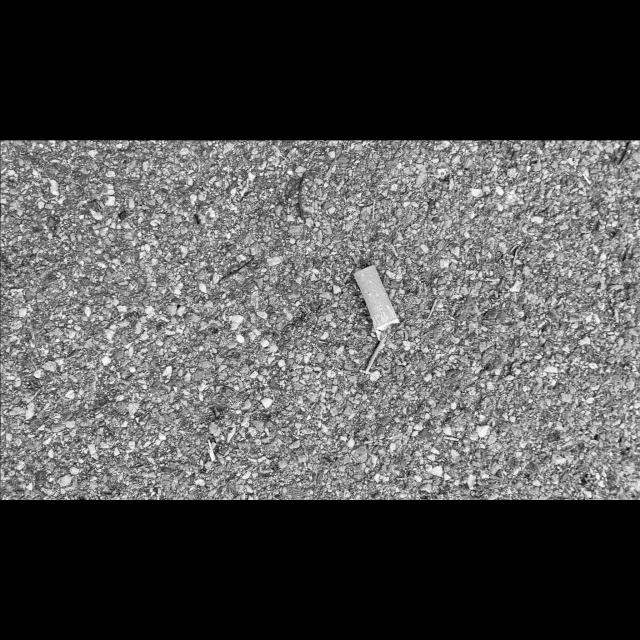cigarette: (352, 264, 401, 342)
